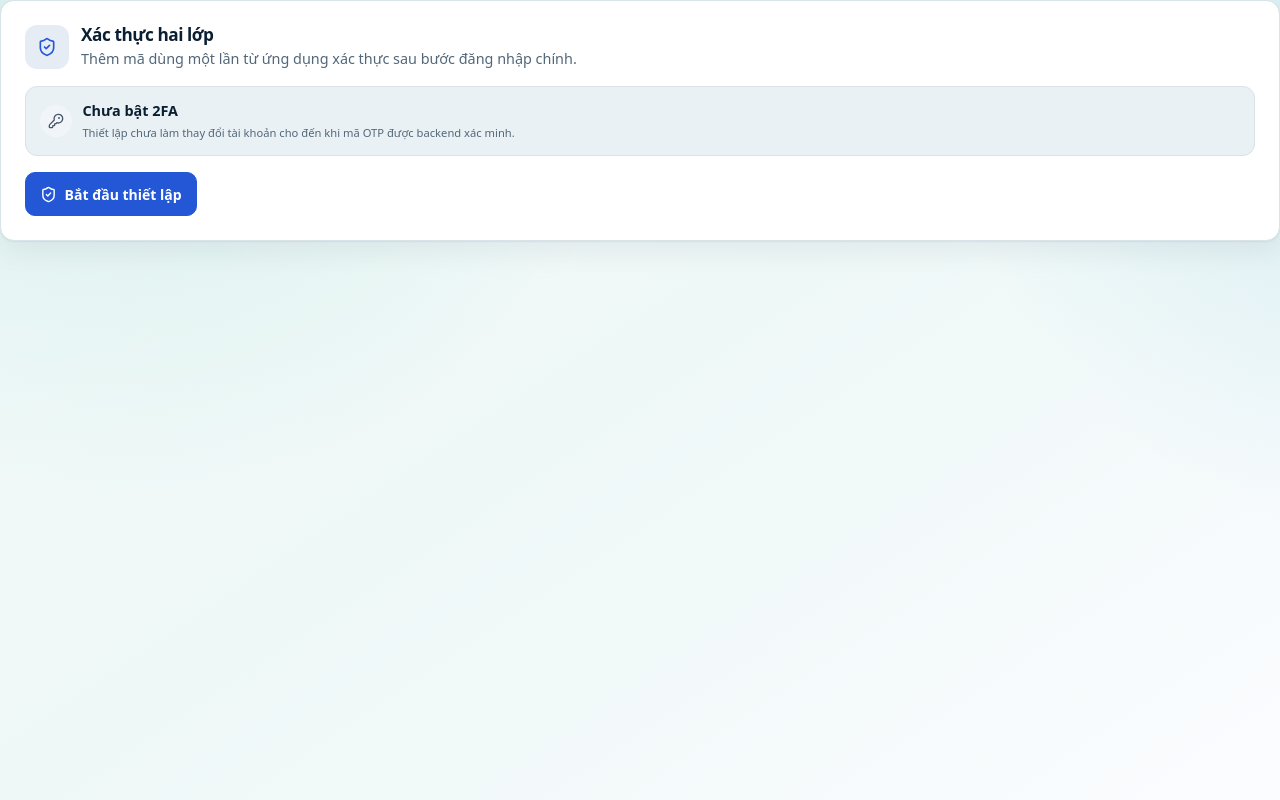
it: TwoFactorPanel › retries an ambiguous enrollment start with one owner and epoch bound key
The width and height of the screenshot is (1280, 800).
Click the button "Bắt đầu thiết lập". click: (111,194)
box: 25,172 -> 197,216
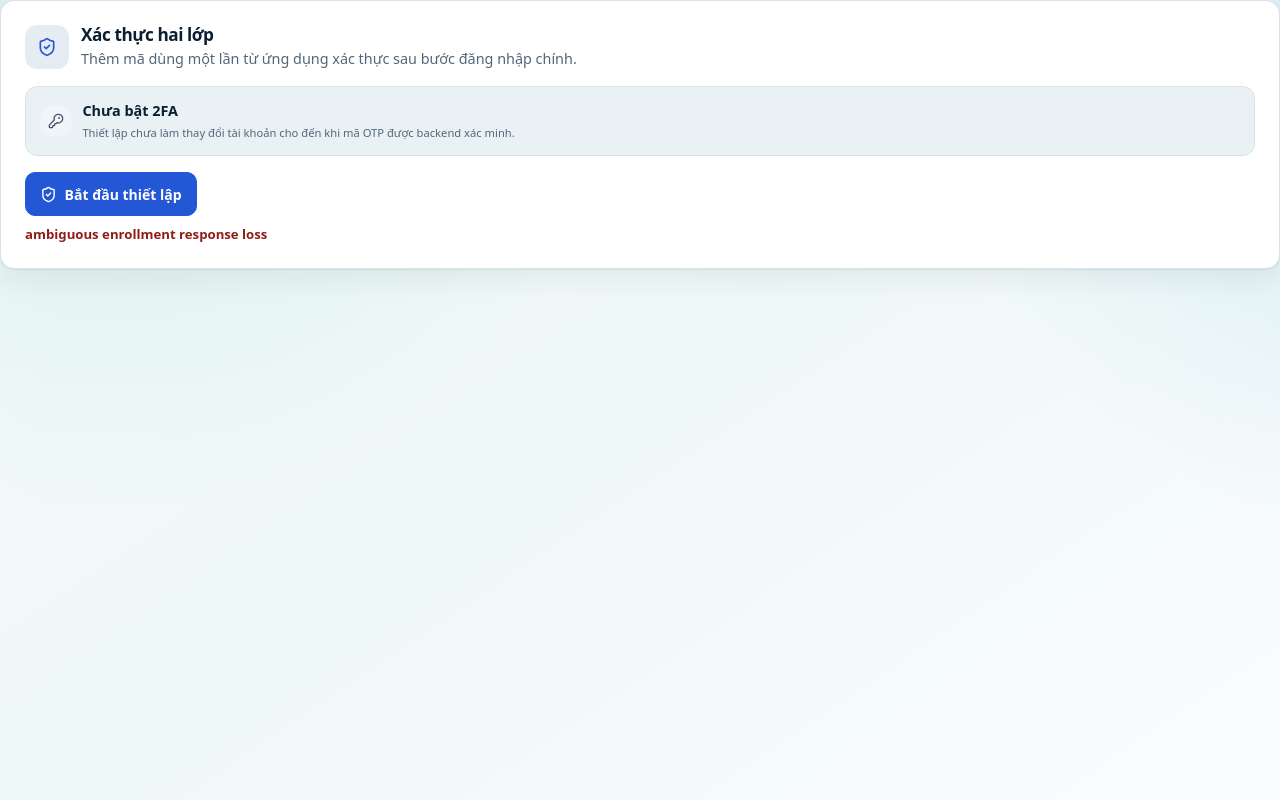
Result: the text "ambiguous enrollment response loss" is shown at 25,225 -> 267,243
Click the button "Bắt đầu thiết lập". click: (111,194)
box: 25,172 -> 197,216
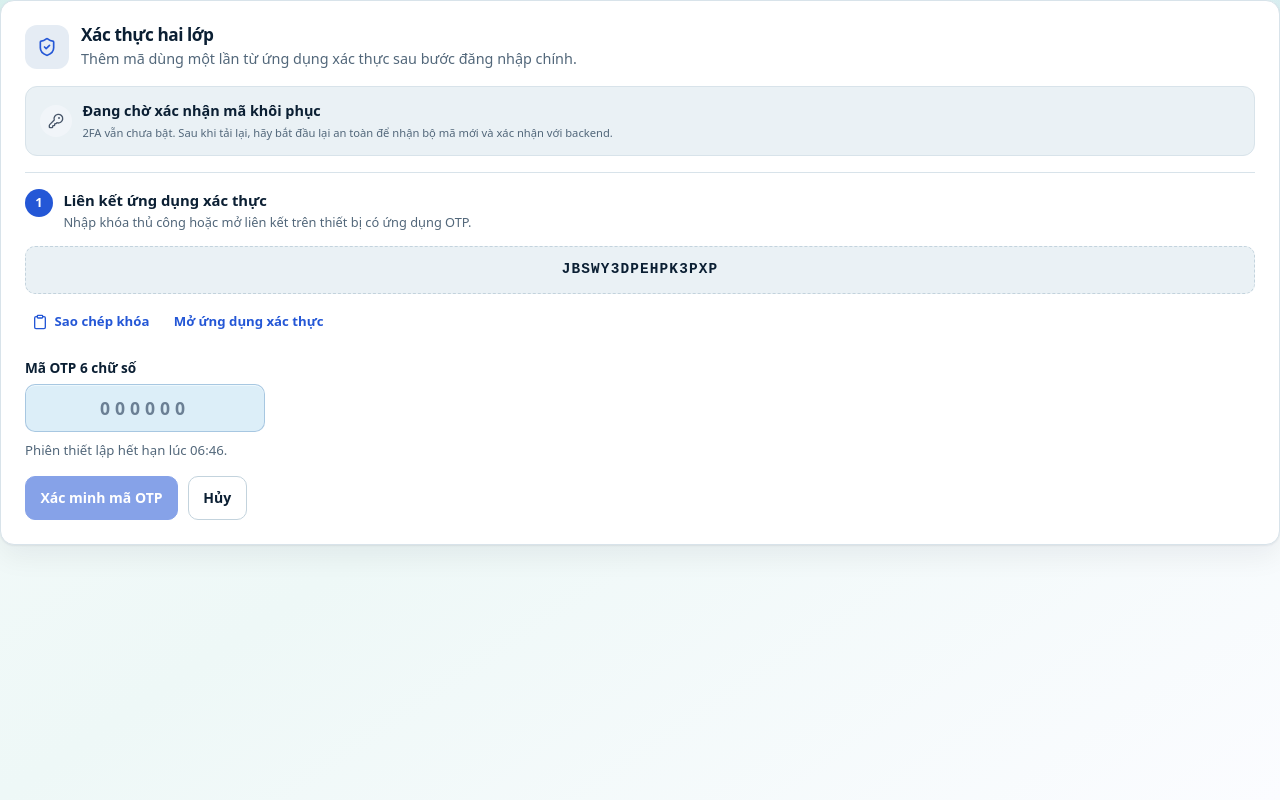
Result: the text "JBSWY3DPEHPK3PXP" is shown at 25,246 -> 1255,294
